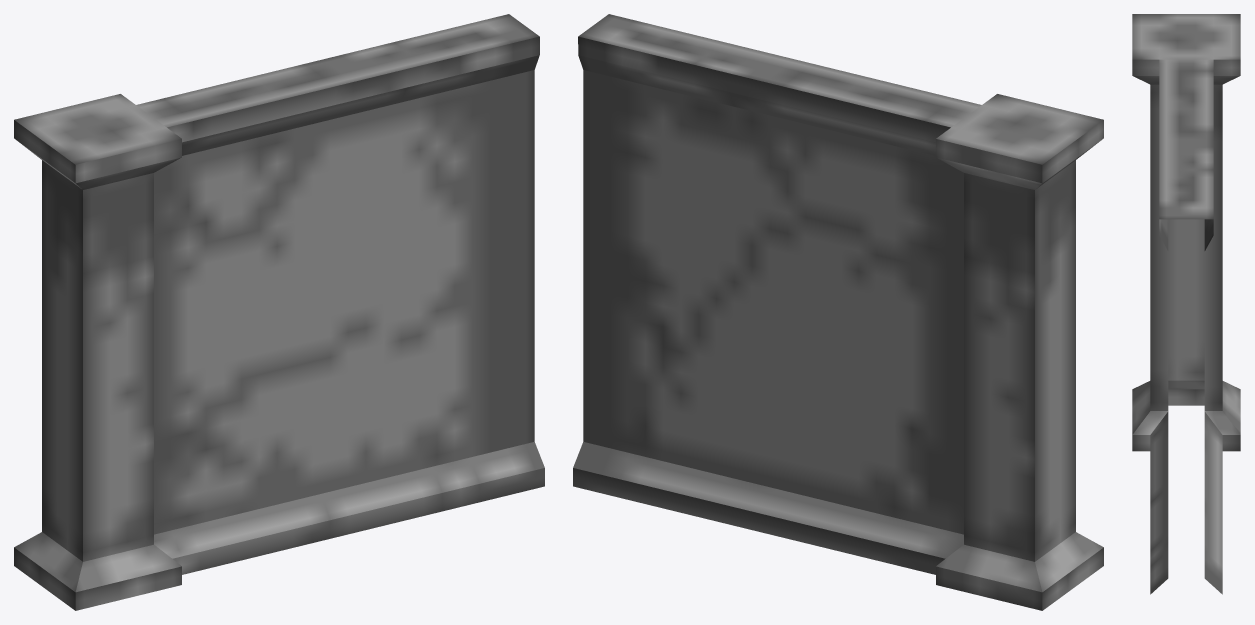
The model's file is ruinsExtension.fbx.
3 views of the same model, side by side, from view 1: azimuth 30°, elevation 25°; view 2: azimuth 150°, elevation 25°; view 3: azimuth 270°, elevation 25° (orthographic). The views are drawn at different scales.
Parts seen in each view (by area): view 1: polySurface73; view 2: polySurface73; view 3: polySurface73.
Part boxes in pixels (x1,y1,x2,y2): polySurface73: (14, 14, 544, 610); polySurface73: (573, 14, 1103, 610); polySurface73: (1132, 14, 1240, 594).
Size of the model in its own units: 6.75 by 6 by 1.5.
1 material, 1 textured.
